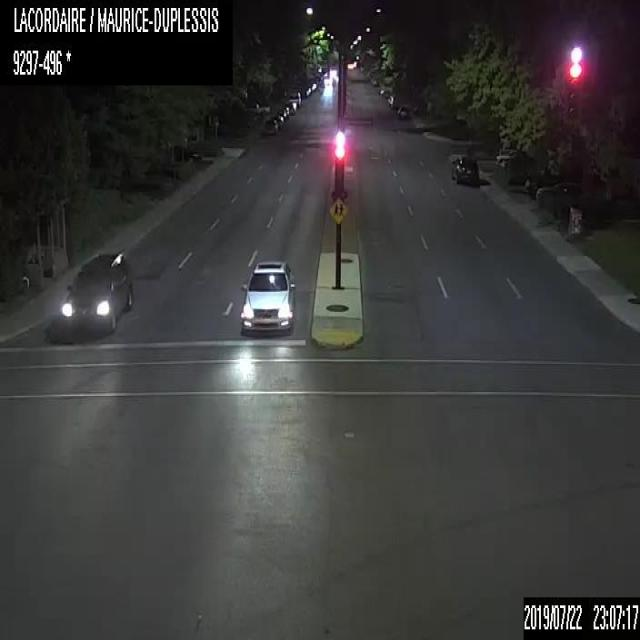vehicle: (58, 250, 133, 330), (238, 258, 296, 330), (530, 178, 580, 202), (448, 155, 478, 184), (494, 148, 527, 165), (168, 145, 202, 161), (262, 118, 276, 134), (271, 112, 286, 126), (395, 105, 410, 118), (387, 93, 400, 107), (289, 90, 299, 105)
